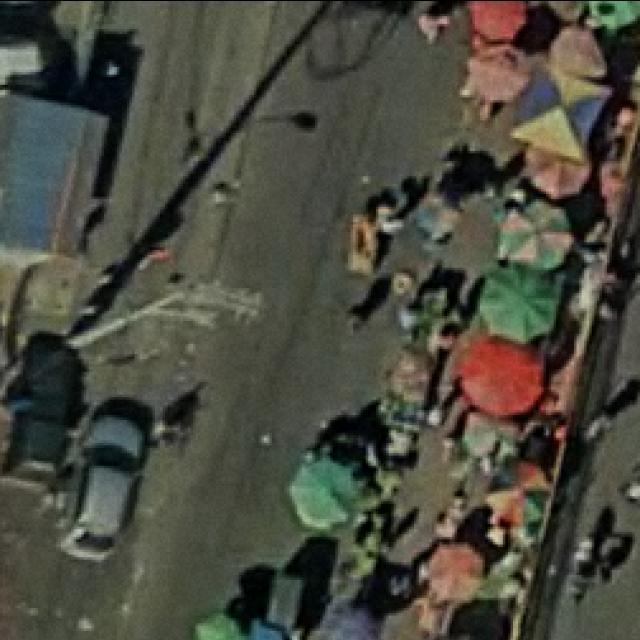vendedor_ambulante: (512, 70, 611, 162), (460, 338, 552, 414), (286, 452, 368, 532), (480, 266, 562, 344), (496, 198, 575, 274), (485, 453, 557, 531), (418, 538, 490, 609), (524, 136, 594, 202), (468, 44, 534, 110), (409, 183, 467, 243), (313, 602, 397, 640), (462, 0, 536, 40), (190, 612, 262, 640), (582, 0, 640, 30)
